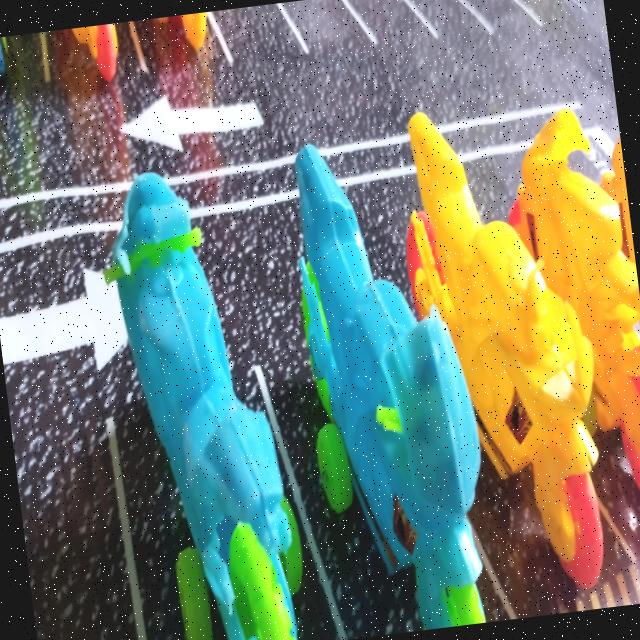occupied: (406, 113, 630, 616), (104, 173, 338, 640), (278, 144, 482, 637), (508, 109, 640, 557), (486, 601, 507, 619)
